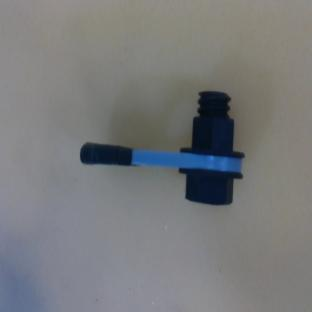part_1_bad: (72, 87, 254, 234)
